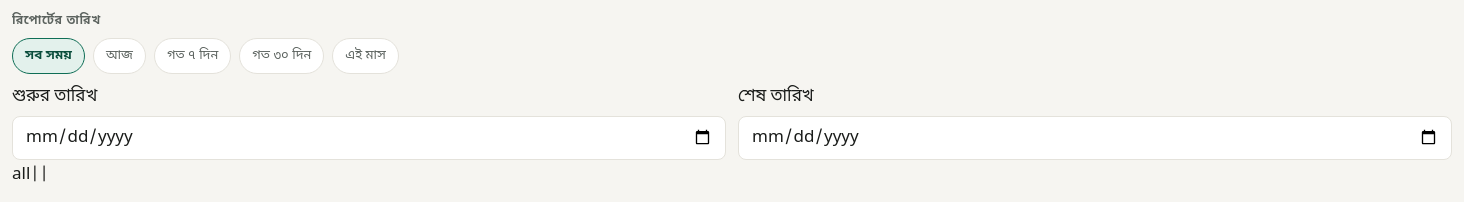
Test case: DateRangeFilter › clears the active preset when a date is typed by hand
The image size is (1464, 202).
Click the button "গত ৭ দিন". click: {"x": 193, "y": 56}
box: [154, 38, 231, 74]
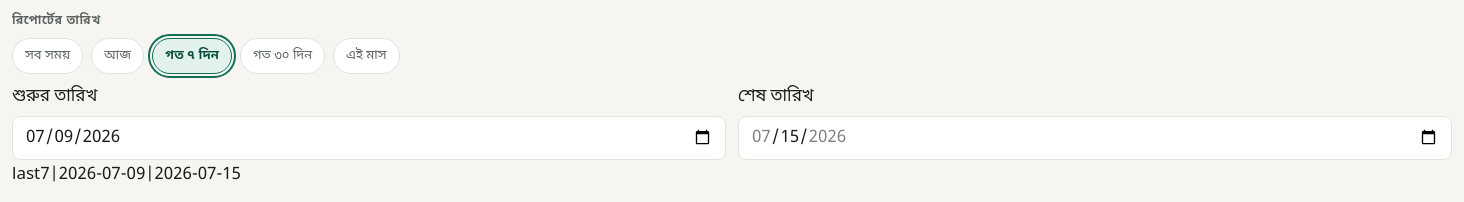
expect the button "গত ৭ দিন" is pressed: met, box [152, 38, 232, 74]
Type "2026-07-01" into the date field labelled "শুরুর তারিখ". click: {"x": 369, "y": 138}
box: [12, 116, 726, 160]
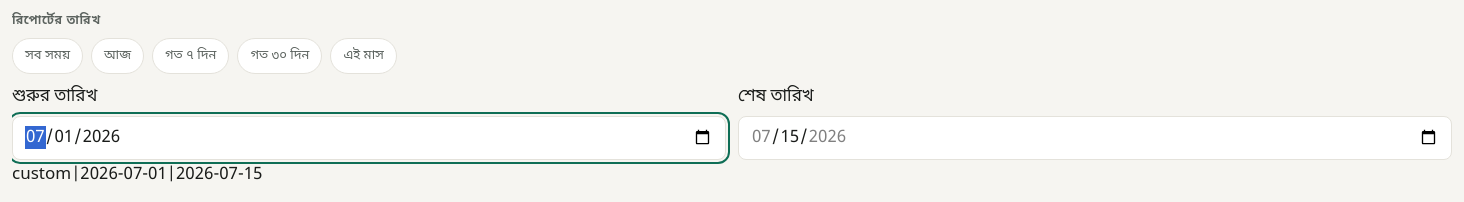
expect the text with test id "state" reads "custom|2026-07-01|2026-07-15": met, box [12, 163, 262, 186]
